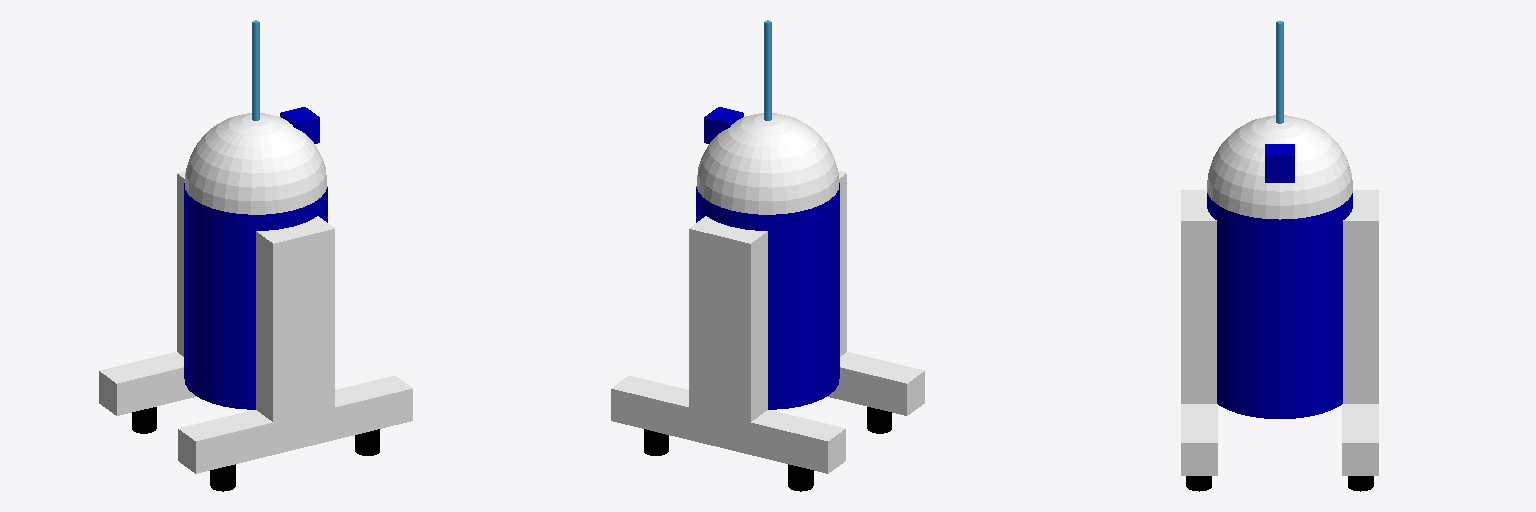
URDF robot description (r4d1):
<?xml version="1.0" ?>
<!-- =================================================================================== -->
<!-- |    This document was autogenerated by xacro from r4dx.xacro                     | -->
<!-- |    EDITING THIS FILE BY HAND IS NOT RECOMMENDED                                 | -->
<!-- =================================================================================== -->
<robot name="r4d1" xmlns:xacro="http://ros.org/wiki/xacro">
  <material name="blue">
    <color rgba="0 0 .8 1"/>
  </material>
  <material name="black">
    <color rgba="0 0 0 1"/>
  </material>
  <material name="white">
    <color rgba="1 1 1 1"/>
  </material>
  <link name="base_link">
    <visual>
      <geometry>
        <cylinder length="0.06" radius="0.02"/>
      </geometry>
      <material name="blue"/>
    </visual>
    <collision>
      <geometry>
        <cylinder length="0.06" radius="0.02"/>
      </geometry>
    </collision>
    <inertial>
      <mass value="10"/>
      <inertia ixx="0.1" ixy="0.0" ixz="0.0" iyy="0.10" iyz="0.0" izz="0.10"/>
    </inertial>
  </link>
  <link name="right_leg">
    <visual>
      <geometry>
        <box size="0.06 .01 .02"/>
      </geometry>
      <origin rpy="0 1.57075 0" xyz="0 0 -0.03"/>
      <material name="white"/>
    </visual>
    <collision>
      <geometry>
        <box size="0.06 .01 .02"/>
      </geometry>
      <origin rpy="0 1.57075 0" xyz="0 0 -0.03"/>
    </collision>
    <inertial>
      <mass value="1"/>
      <inertia ixx="0.1" ixy="0.0" ixz="0.0" iyy="0.10" iyz="0.0" izz="0.10"/>
    </inertial>
  </link>
  <joint name="base_to_right_leg" type="fixed">
    <parent link="base_link"/>
    <child link="right_leg"/>
    <origin xyz="0 -0.022 .025"/>
  </joint>
  <link name="right_base">
    <visual>
      <geometry>
        <box size="0.07 .01 .01"/>
      </geometry>
      <material name="white"/>
    </visual>
    <collision>
      <geometry>
        <box size="0.07 .01 .01"/>
      </geometry>
    </collision>
    <inertial>
      <mass value="1"/>
      <inertia ixx="0.1" ixy="0.0" ixz="0.0" iyy="0.10" iyz="0.0" izz="0.10"/>
    </inertial>
  </link>
  <joint name="right_base_joint" type="fixed">
    <parent link="right_leg"/>
    <child link="right_base"/>
    <origin xyz="0 0 -0.06"/>
  </joint>
  <link name="right_front_wheel">
    <visual>
      <origin rpy="1.57075 0 0" xyz="0 0 0"/>
      <geometry>
        <cylinder length="0.01" radius="0.0035"/>
      </geometry>
      <material name="black"/>
      <origin rpy="0 0 0" xyz="0 0 0"/>
    </visual>
    <collision>
      <origin rpy="1.57075 0 0" xyz="0 0 0"/>
      <geometry>
        <cylinder length="0.01" radius="0.0035"/>
      </geometry>
      <origin rpy="0 0 0" xyz="0 0 0"/>
    </collision>
    <inertial>
      <mass value="1"/>
      <inertia ixx="0.1" ixy="0.0" ixz="0.0" iyy="0.10" iyz="0.0" izz="0.10"/>
    </inertial>
  </link>
  <joint name="right_front_wheel_joint" type="continuous">
    <axis rpy="0 0 0" xyz="0 0.01 0"/>
    <parent link="right_base"/>
    <child link="right_front_wheel"/>
    <origin rpy="0 0 0" xyz="0.0233333333333 0 -0.0085"/>
  </joint>
  <!-- This block provides the simulator (Gazebo) with information on a few additional
    physical properties. See http://gazebosim.org/tutorials/?tut=ros_urdf for more-->
  <gazebo reference="right_front_wheel">
    <mu1 value="200.0"/>
    <mu2 value="100.0"/>
    <kp value="10000000.0"/>
    <kd value="1.0"/>
    <material>Gazebo/Grey</material>
  </gazebo>
  <!-- This block connects the wheel joint to an actuator (motor), which informs both
    simulation and visualization of the robot -->
  <transmission name="right_front_wheel_trans" type="SimpleTransmission">
    <type>transmission_interface/SimpleTransmission</type>
    <actuator name="right_front_wheel_motor">
      <mechanicalReduction>1</mechanicalReduction>
    </actuator>
    <joint name="right_front_wheel_joint">
      <hardwareInterface>VelocityJointInterface</hardwareInterface>
    </joint>
  </transmission>
  <link name="right_back_wheel">
    <visual>
      <origin rpy="1.57075 0 0" xyz="0 0 0"/>
      <geometry>
        <cylinder length="0.01" radius="0.0035"/>
      </geometry>
      <material name="black"/>
      <origin rpy="0 0 0" xyz="0 0 0"/>
    </visual>
    <collision>
      <origin rpy="1.57075 0 0" xyz="0 0 0"/>
      <geometry>
        <cylinder length="0.01" radius="0.0035"/>
      </geometry>
      <origin rpy="0 0 0" xyz="0 0 0"/>
    </collision>
    <inertial>
      <mass value="1"/>
      <inertia ixx="0.1" ixy="0.0" ixz="0.0" iyy="0.10" iyz="0.0" izz="0.10"/>
    </inertial>
  </link>
  <joint name="right_back_wheel_joint" type="continuous">
    <axis rpy="0 0 0" xyz="0 0.01 0"/>
    <parent link="right_base"/>
    <child link="right_back_wheel"/>
    <origin rpy="0 0 0" xyz="-0.0233333333333 0 -0.0085"/>
  </joint>
  <!-- This block provides the simulator (Gazebo) with information on a few additional
    physical properties. See http://gazebosim.org/tutorials/?tut=ros_urdf for more-->
  <gazebo reference="right_back_wheel">
    <mu1 value="200.0"/>
    <mu2 value="100.0"/>
    <kp value="10000000.0"/>
    <kd value="1.0"/>
    <material>Gazebo/Grey</material>
  </gazebo>
  <!-- This block connects the wheel joint to an actuator (motor), which informs both
    simulation and visualization of the robot -->
  <transmission name="right_back_wheel_trans" type="SimpleTransmission">
    <type>transmission_interface/SimpleTransmission</type>
    <actuator name="right_back_wheel_motor">
      <mechanicalReduction>1</mechanicalReduction>
    </actuator>
    <joint name="right_back_wheel_joint">
      <hardwareInterface>VelocityJointInterface</hardwareInterface>
    </joint>
  </transmission>
  <gazebo reference="right_leg">
    <material>Gazebo/White</material>
  </gazebo>
  <link name="left_leg">
    <visual>
      <geometry>
        <box size="0.06 .01 .02"/>
      </geometry>
      <origin rpy="0 1.57075 0" xyz="0 0 -0.03"/>
      <material name="white"/>
    </visual>
    <collision>
      <geometry>
        <box size="0.06 .01 .02"/>
      </geometry>
      <origin rpy="0 1.57075 0" xyz="0 0 -0.03"/>
    </collision>
    <inertial>
      <mass value="1"/>
      <inertia ixx="0.1" ixy="0.0" ixz="0.0" iyy="0.10" iyz="0.0" izz="0.10"/>
    </inertial>
  </link>
  <joint name="base_to_left_leg" type="fixed">
    <parent link="base_link"/>
    <child link="left_leg"/>
    <origin xyz="0 0.022 .025"/>
  </joint>
  <link name="left_base">
    <visual>
      <geometry>
        <box size="0.07 .01 .01"/>
      </geometry>
      <material name="white"/>
    </visual>
    <collision>
      <geometry>
        <box size="0.07 .01 .01"/>
      </geometry>
    </collision>
    <inertial>
      <mass value="1"/>
      <inertia ixx="0.1" ixy="0.0" ixz="0.0" iyy="0.10" iyz="0.0" izz="0.10"/>
    </inertial>
  </link>
  <joint name="left_base_joint" type="fixed">
    <parent link="left_leg"/>
    <child link="left_base"/>
    <origin xyz="0 0 -0.06"/>
  </joint>
  <link name="left_front_wheel">
    <visual>
      <origin rpy="1.57075 0 0" xyz="0 0 0"/>
      <geometry>
        <cylinder length="0.01" radius="0.0035"/>
      </geometry>
      <material name="black"/>
      <origin rpy="0 0 0" xyz="0 0 0"/>
    </visual>
    <collision>
      <origin rpy="1.57075 0 0" xyz="0 0 0"/>
      <geometry>
        <cylinder length="0.01" radius="0.0035"/>
      </geometry>
      <origin rpy="0 0 0" xyz="0 0 0"/>
    </collision>
    <inertial>
      <mass value="1"/>
      <inertia ixx="0.1" ixy="0.0" ixz="0.0" iyy="0.10" iyz="0.0" izz="0.10"/>
    </inertial>
  </link>
  <joint name="left_front_wheel_joint" type="continuous">
    <axis rpy="0 0 0" xyz="0 0.01 0"/>
    <parent link="left_base"/>
    <child link="left_front_wheel"/>
    <origin rpy="0 0 0" xyz="0.0233333333333 0 -0.0085"/>
  </joint>
  <!-- This block provides the simulator (Gazebo) with information on a few additional
    physical properties. See http://gazebosim.org/tutorials/?tut=ros_urdf for more-->
  <gazebo reference="left_front_wheel">
    <mu1 value="200.0"/>
    <mu2 value="100.0"/>
    <kp value="10000000.0"/>
    <kd value="1.0"/>
    <material>Gazebo/Grey</material>
  </gazebo>
  <!-- This block connects the wheel joint to an actuator (motor), which informs both
    simulation and visualization of the robot -->
  <transmission name="left_front_wheel_trans" type="SimpleTransmission">
    <type>transmission_interface/SimpleTransmission</type>
    <actuator name="left_front_wheel_motor">
      <mechanicalReduction>1</mechanicalReduction>
    </actuator>
    <joint name="left_front_wheel_joint">
      <hardwareInterface>VelocityJointInterface</hardwareInterface>
    </joint>
  </transmission>
  <link name="left_back_wheel">
    <visual>
      <origin rpy="1.57075 0 0" xyz="0 0 0"/>
      <geometry>
        <cylinder length="0.01" radius="0.0035"/>
      </geometry>
      <material name="black"/>
      <origin rpy="0 0 0" xyz="0 0 0"/>
    </visual>
    <collision>
      <origin rpy="1.57075 0 0" xyz="0 0 0"/>
      <geometry>
        <cylinder length="0.01" radius="0.0035"/>
      </geometry>
      <origin rpy="0 0 0" xyz="0 0 0"/>
    </collision>
    <inertial>
      <mass value="1"/>
      <inertia ixx="0.1" ixy="0.0" ixz="0.0" iyy="0.10" iyz="0.0" izz="0.10"/>
    </inertial>
  </link>
  <joint name="left_back_wheel_joint" type="continuous">
    <axis rpy="0 0 0" xyz="0 0.01 0"/>
    <parent link="left_base"/>
    <child link="left_back_wheel"/>
    <origin rpy="0 0 0" xyz="-0.0233333333333 0 -0.0085"/>
  </joint>
  <!-- This block provides the simulator (Gazebo) with information on a few additional
    physical properties. See http://gazebosim.org/tutorials/?tut=ros_urdf for more-->
  <gazebo reference="left_back_wheel">
    <mu1 value="200.0"/>
    <mu2 value="100.0"/>
    <kp value="10000000.0"/>
    <kd value="1.0"/>
    <material>Gazebo/Grey</material>
  </gazebo>
  <!-- This block connects the wheel joint to an actuator (motor), which informs both
    simulation and visualization of the robot -->
  <transmission name="left_back_wheel_trans" type="SimpleTransmission">
    <type>transmission_interface/SimpleTransmission</type>
    <actuator name="left_back_wheel_motor">
      <mechanicalReduction>1</mechanicalReduction>
    </actuator>
    <joint name="left_back_wheel_joint">
      <hardwareInterface>VelocityJointInterface</hardwareInterface>
    </joint>
  </transmission>
  <gazebo reference="left_leg">
    <material>Gazebo/White</material>
  </gazebo>
  <joint name="gripper_extension" type="prismatic">
    <parent link="head"/>
    <child link="gripper_pole"/>
    <limit effort="1000.0" lower="-0.02" upper="0" velocity="0.5"/>
    <origin rpy="0 -1.57075 0" xyz="0 0 0"/>
    <limit effort="30" velocity="0.2"/>
    <dynamics damping="0.0" friction="0.0"/>
  </joint>
  <link name="gripper_pole">
    <visual>
      <geometry>
        <cylinder length="0.05" radius=".001"/>
      </geometry>
      <origin rpy="0 1.57075 0 " xyz="0.025 0 0"/>
    </visual>
    <collision>
      <geometry>
        <cylinder length="0.05" radius=".001"/>
      </geometry>
      <origin rpy="0 1.57075 0 " xyz="0.025 0 0"/>
    </collision>
    <inertial>
      <mass value="0.05"/>
      <inertia ixx="0.1" ixy="0.0" ixz="0.0" iyy="0.10" iyz="0.0" izz="0.10"/>
    </inertial>
  </link>
  <transmission name="gripper_extension_trans" type="SimpleTransmission">
    <type>transmission_interface/SimpleTransmission</type>
    <actuator name="gripper_extension_motor">
      <mechanicalReduction>1</mechanicalReduction>
    </actuator>
    <joint name="gripper_extension">
      <hardwareInterface>PositionJointInterface</hardwareInterface>
    </joint>
  </transmission>
  <joint name="left_gripper_joint" type="revolute">
    <axis xyz="0 0 1"/>
    <limit effort="1000.0" lower="0.0" upper="0.548" velocity="0.5"/>
    <origin rpy="0 0 0" xyz="0.05 0.01 0"/>
    <parent link="gripper_pole"/>
    <child link="left_gripper"/>
    <limit effort="30" velocity="1.0"/>
    <dynamics damping="0.0" friction="0.0"/>
  </joint>
  <link name="left_gripper">
    <visual>
      <origin rpy="0.0 0 0" xyz="0 0 0"/>
      <geometry>
        <mesh filename="package://pr2_description/meshes/gripper_v0/l_finger.dae"/>
      </geometry>
    </visual>
    <collision>
      <geometry>
        <mesh filename="package://pr2_description/meshes/gripper_v0/l_finger.dae"/>
      </geometry>
      <origin rpy="0.0 0 0" xyz="0 0 0"/>
    </collision>
    <inertial>
      <mass value="0.05"/>
      <inertia ixx="0.1" ixy="0.0" ixz="0.0" iyy="0.10" iyz="0.0" izz="0.10"/>
    </inertial>
  </link>
  <transmission name="left_gripper_trans" type="SimpleTransmission">
    <type>transmission_interface/SimpleTransmission</type>
    <actuator name="left_gripper_motor">
      <mechanicalReduction>1</mechanicalReduction>
    </actuator>
    <joint name="left_gripper_joint">
      <hardwareInterface>PositionJointInterface</hardwareInterface>
    </joint>
  </transmission>
  <joint name="left_tip_joint" type="fixed">
    <parent link="left_gripper"/>
    <child link="left_tip"/>
  </joint>
  <link name="left_tip">
    <visual>
      <origin rpy="0.0 0 0" xyz="0.009137 0.000495 0"/>
      <geometry>
        <mesh filename="package://pr2_description/meshes/gripper_v0/l_finger_tip.dae"/>
      </geometry>
    </visual>
    <collision>
      <geometry>
        <mesh filename="package://pr2_description/meshes/gripper_v0/l_finger_tip.dae"/>
      </geometry>
      <origin rpy="0.0 0 0" xyz="0.009137 0.000495 0"/>
    </collision>
    <inertial>
      <mass value="0.05"/>
      <inertia ixx="0.1" ixy="0.0" ixz="0.0" iyy="0.10" iyz="0.0" izz="0.10"/>
    </inertial>
  </link>
  <joint name="right_gripper_joint" type="revolute">
    <axis xyz="0 0 -1"/>
    <limit effort="1000.0" lower="0.0" upper="0.548" velocity="0.5"/>
    <origin rpy="0 0 0" xyz="0.05 -0.01 0"/>
    <parent link="gripper_pole"/>
    <child link="right_gripper"/>
    <limit effort="30" velocity="1.0"/>
    <dynamics damping="0.0" friction="0.0"/>
  </joint>
  <link name="right_gripper">
    <visual>
      <origin rpy="-3.1415 0 0" xyz="0 0 0"/>
      <geometry>
        <mesh filename="package://pr2_description/meshes/gripper_v0/l_finger.dae"/>
      </geometry>
    </visual>
    <collision>
      <geometry>
        <mesh filename="package://pr2_description/meshes/gripper_v0/l_finger.dae"/>
      </geometry>
      <origin rpy="-3.1415 0 0" xyz="0 0 0"/>
    </collision>
    <inertial>
      <mass value="0.05"/>
      <inertia ixx="0.1" ixy="0.0" ixz="0.0" iyy="0.10" iyz="0.0" izz="0.10"/>
    </inertial>
  </link>
  <transmission name="right_gripper_trans" type="SimpleTransmission">
    <type>transmission_interface/SimpleTransmission</type>
    <actuator name="right_gripper_motor">
      <mechanicalReduction>1</mechanicalReduction>
    </actuator>
    <joint name="right_gripper_joint">
      <hardwareInterface>PositionJointInterface</hardwareInterface>
    </joint>
  </transmission>
  <joint name="right_tip_joint" type="fixed">
    <parent link="right_gripper"/>
    <child link="right_tip"/>
  </joint>
  <link name="right_tip">
    <visual>
      <origin rpy="-3.1415 0 0" xyz="0.009137 0.000495 0"/>
      <geometry>
        <mesh filename="package://pr2_description/meshes/gripper_v0/l_finger_tip.dae"/>
      </geometry>
    </visual>
    <collision>
      <geometry>
        <mesh filename="package://pr2_description/meshes/gripper_v0/l_finger_tip.dae"/>
      </geometry>
      <origin rpy="-3.1415 0 0" xyz="0.009137 0.000495 0"/>
    </collision>
    <inertial>
      <mass value="0.05"/>
      <inertia ixx="0.1" ixy="0.0" ixz="0.0" iyy="0.10" iyz="0.0" izz="0.10"/>
    </inertial>
  </link>
  <link name="head">
    <visual>
      <geometry>
        <sphere radius="0.02"/>
      </geometry>
      <material name="white"/>
    </visual>
    <collision>
      <geometry>
        <sphere radius="0.02"/>
      </geometry>
    </collision>
    <inertial>
      <mass value="2"/>
      <inertia ixx="0.1" ixy="0.0" ixz="0.0" iyy="0.10" iyz="0.0" izz="0.10"/>
    </inertial>
  </link>
  <joint name="head_swivel" type="continuous">
    <parent link="base_link"/>
    <child link="head"/>
    <axis xyz="0 0 1"/>
    <origin xyz="0 0 0.03"/>
    <limit effort="30" velocity="1.0"/>
    <dynamics damping="0.0" friction="0.0"/>
  </joint>
  <!-- This block connects the head_swivel joint to an actuator (motor), which informs both
  simulation and visualization of the robot -->
  <transmission name="head_swivel_trans" type="SimpleTransmission">
    <type>transmission_interface/SimpleTransmission</type>
    <actuator name="$head_swivel_motor">
      <mechanicalReduction>1</mechanicalReduction>
    </actuator>
    <joint name="head_swivel">
      <hardwareInterface>PositionJointInterface</hardwareInterface>
    </joint>
  </transmission>
  <link name="box">
    <visual>
      <geometry>
        <box size=".008 .008 .008"/>
      </geometry>
      <material name="blue"/>
      <origin xyz="-0.04 0 0"/>
    </visual>
    <collision>
      <geometry>
        <box size=".008 .008 .008"/>
      </geometry>
    </collision>
    <inertial>
      <mass value="1"/>
      <inertia ixx="0.1" ixy="0.0" ixz="0.0" iyy="0.10" iyz="0.0" izz="0.10"/>
    </inertial>
  </link>
  <joint name="tobox" type="fixed">
    <parent link="head"/>
    <child link="box"/>
    <origin xyz="0.05414 0 0.01414"/>
  </joint>
  <!-- Gazebo plugin for ROS Control -->
  <gazebo>
    <plugin filename="libgazebo_ros_control.so" name="gazebo_ros_control">
      <robotNamespace>/</robotNamespace>
    </plugin>
  </gazebo>
  <gazebo reference="box">
    <material>Gazebo/Blue</material>
  </gazebo>
  <gazebo reference="head">
    <material>Gazebo/White</material>
  </gazebo>
  <gazebo reference="box2">
    <material>Gazebo/Blue</material>
  </gazebo>
  <gazebo reference="base_link">
    <material>Gazebo/Blue</material>
  </gazebo>
  <gazebo reference="head">
    <material>Gazebo/White</material>
  </gazebo>
</robot>

--- Render facts (derived) ---
Views: 3 orthographic renders of the robot side by side, from view 1: azimuth 30°, elevation 25°; view 2: azimuth 150°, elevation 25°; view 3: azimuth 270°, elevation 25°.
Robot: r4d1 — 16 links, 15 joints (2 revolute, 5 continuous, 1 prismatic, 7 fixed); root link base_link; default pose: every joint at zero.
Visible links, largest first — view 1: base_link, right_leg, head, right_base, left_base, left_leg, box, gripper_pole, right_back_wheel, left_back_wheel, right_front_wheel; view 2: base_link, left_leg, head, left_base, right_base, right_leg, box, gripper_pole, left_back_wheel, right_back_wheel, left_front_wheel; view 3: base_link, head, right_leg, left_leg, right_base, left_base, box, gripper_pole.
Link boxes in pixels (left/top/right/bottom): base_link: left=184, top=183, right=327, bottom=409; right_leg: left=256, top=216, right=334, bottom=438; head: left=184, top=113, right=327, bottom=214; right_base: left=178, top=375, right=412, bottom=473; left_base: left=99, top=352, right=196, bottom=415; left_leg: left=177, top=171, right=185, bottom=356; box: left=280, top=107, right=319, bottom=143; gripper_pole: left=252, top=20, right=259, bottom=120; right_back_wheel: left=210, top=464, right=235, bottom=491; left_back_wheel: left=132, top=407, right=156, bottom=433; right_front_wheel: left=355, top=429, right=379, bottom=455; base_link: left=696, top=183, right=839, bottom=409; left_leg: left=689, top=216, right=767, bottom=438; head: left=696, top=113, right=839, bottom=214; left_base: left=611, top=375, right=845, bottom=473; right_base: left=827, top=352, right=924, bottom=415; right_leg: left=838, top=171, right=846, bottom=356; box: left=704, top=107, right=743, bottom=143; gripper_pole: left=764, top=20, right=771, bottom=120; left_back_wheel: left=788, top=464, right=813, bottom=491; right_back_wheel: left=867, top=407, right=891, bottom=433; left_front_wheel: left=644, top=429, right=668, bottom=455; base_link: left=1207, top=193, right=1352, bottom=418; head: left=1207, top=115, right=1352, bottom=219; right_leg: left=1181, top=190, right=1216, bottom=403; left_leg: left=1343, top=190, right=1378, bottom=403; right_base: left=1181, top=404, right=1217, bottom=475; left_base: left=1342, top=404, right=1378, bottom=475; box: left=1265, top=144, right=1294, bottom=182; gripper_pole: left=1276, top=21, right=1283, bottom=123.
Bounding box of the posed robot: 0.07 × 0.054 × 0.1285 m (x, y, z).
Meshes: 2 distinct files referenced, 0 mesh visuals loaded (none loaded); not drawn: 4 (reference not matched to a file when rendering).
